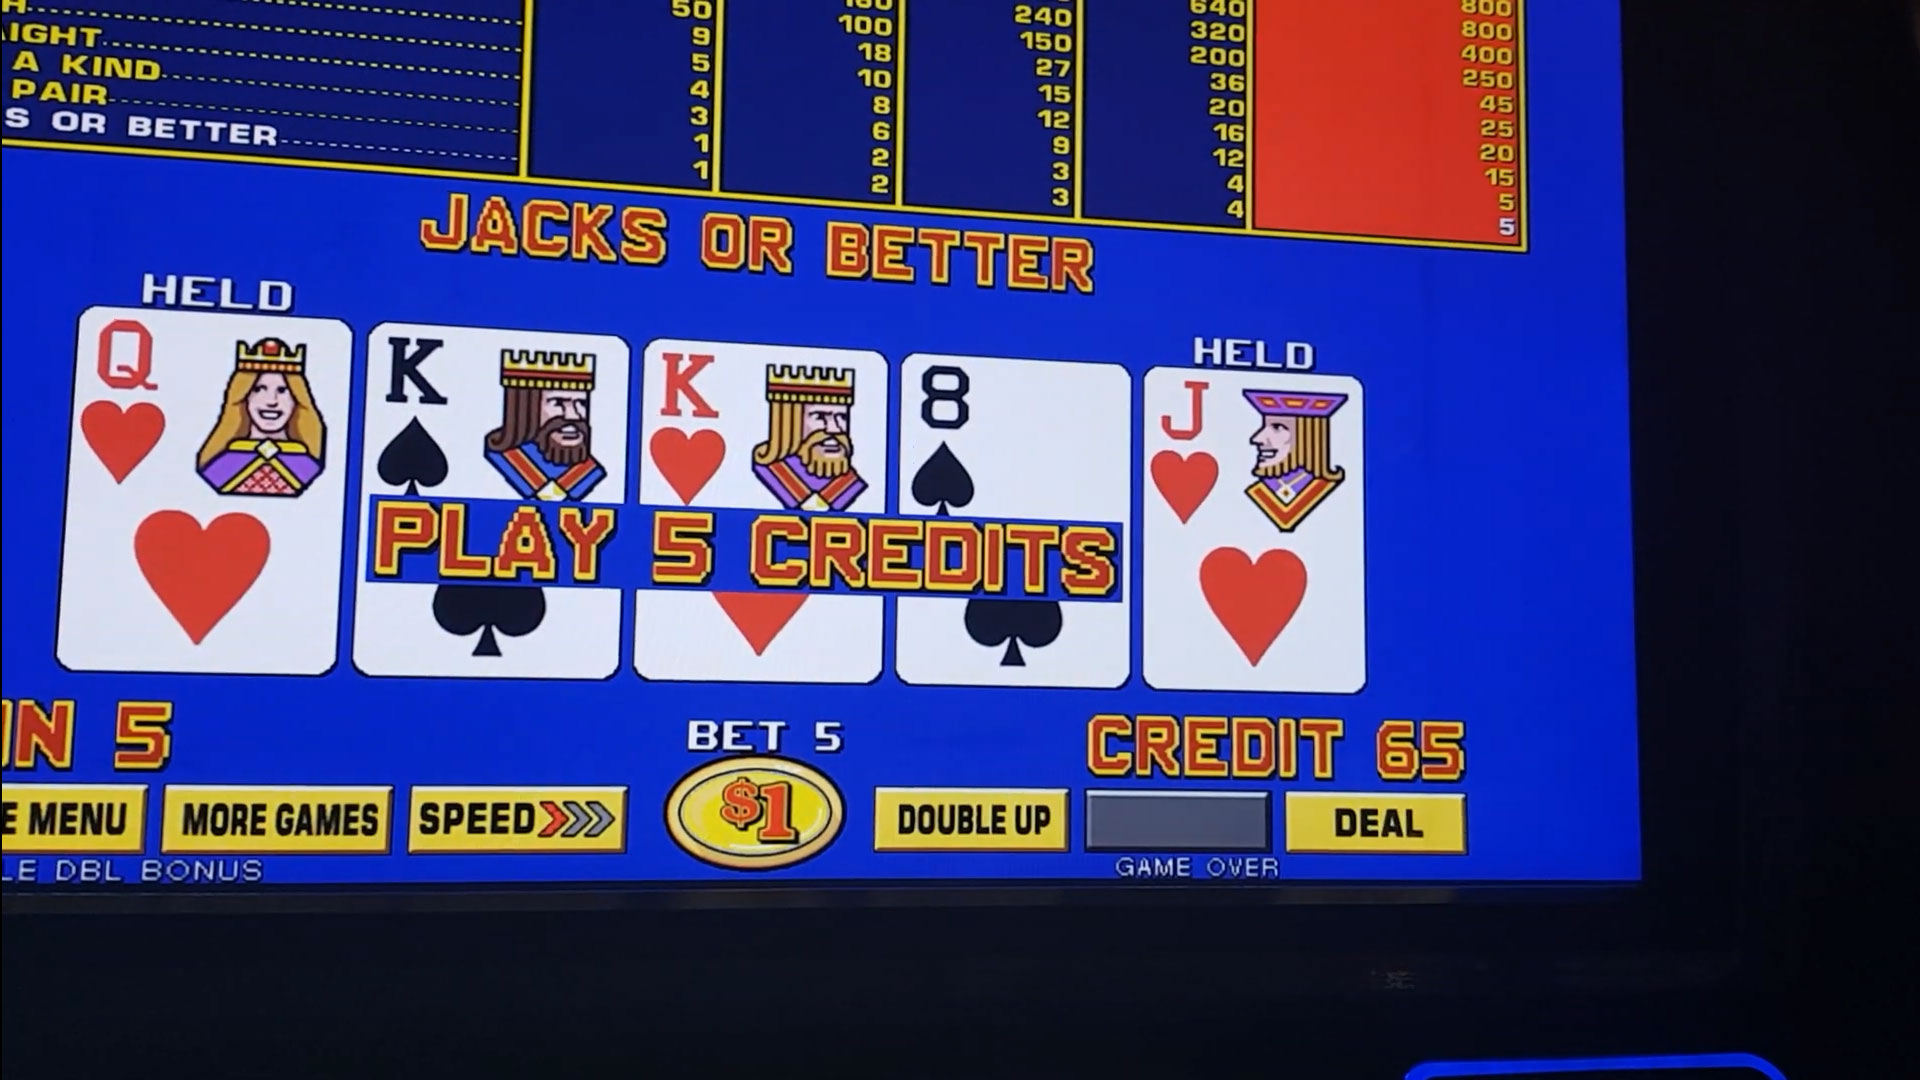HJ: (1151, 372, 1348, 542)
HK: (646, 352, 884, 509)
HQ: (90, 316, 347, 495)
S8: (903, 363, 1127, 512)
SK: (371, 335, 624, 487)
